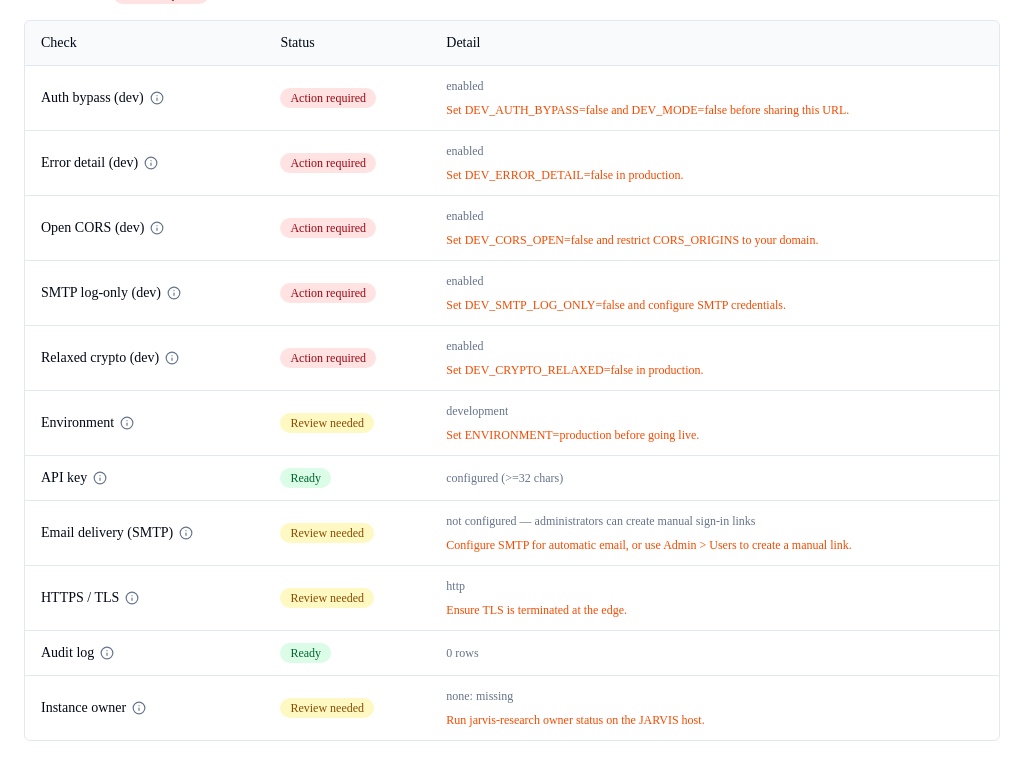
it: AdminSystemHealthPage › renders an info tooltip for SMTP check containing the explanation copy
(page scrolled)
Expected: the text "Email delivery (SMTP)" is shown, x1=41 y1=523 x2=173 y2=543
Hover over the button named "More info" next to "Email delivery (SMTP)" at (186, 533), box x1=179 y1=526 x2=193 y2=540
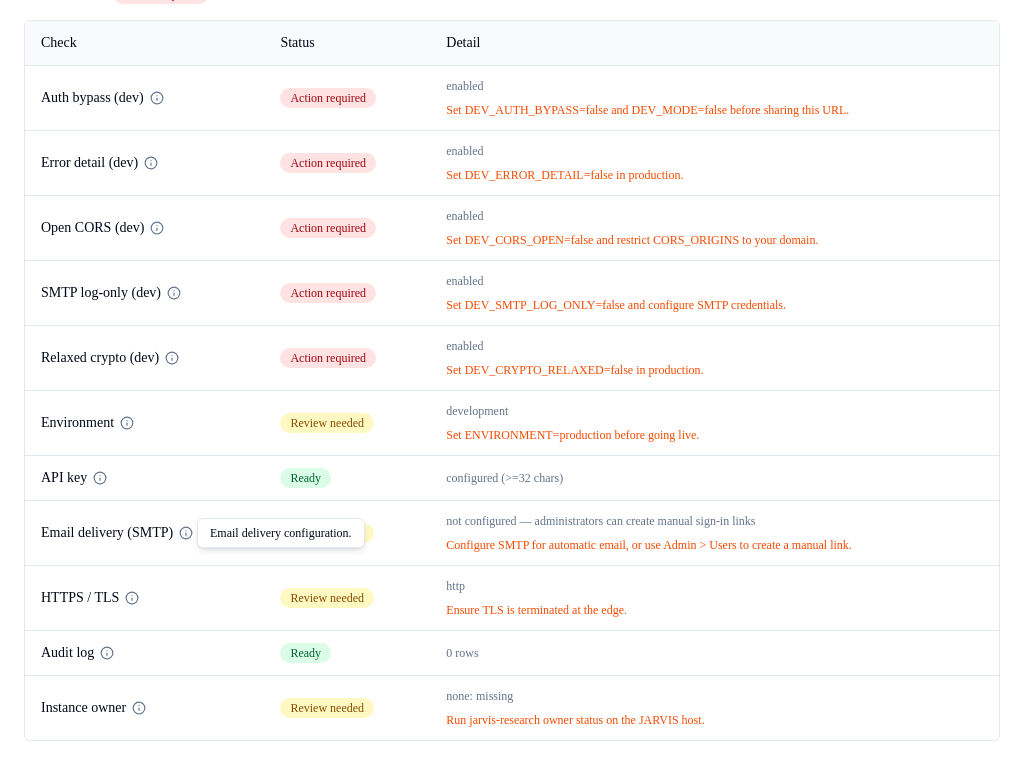
Result: the tooltip "Email delivery configuration." is shown at x1=197 y1=518 x2=365 y2=548
